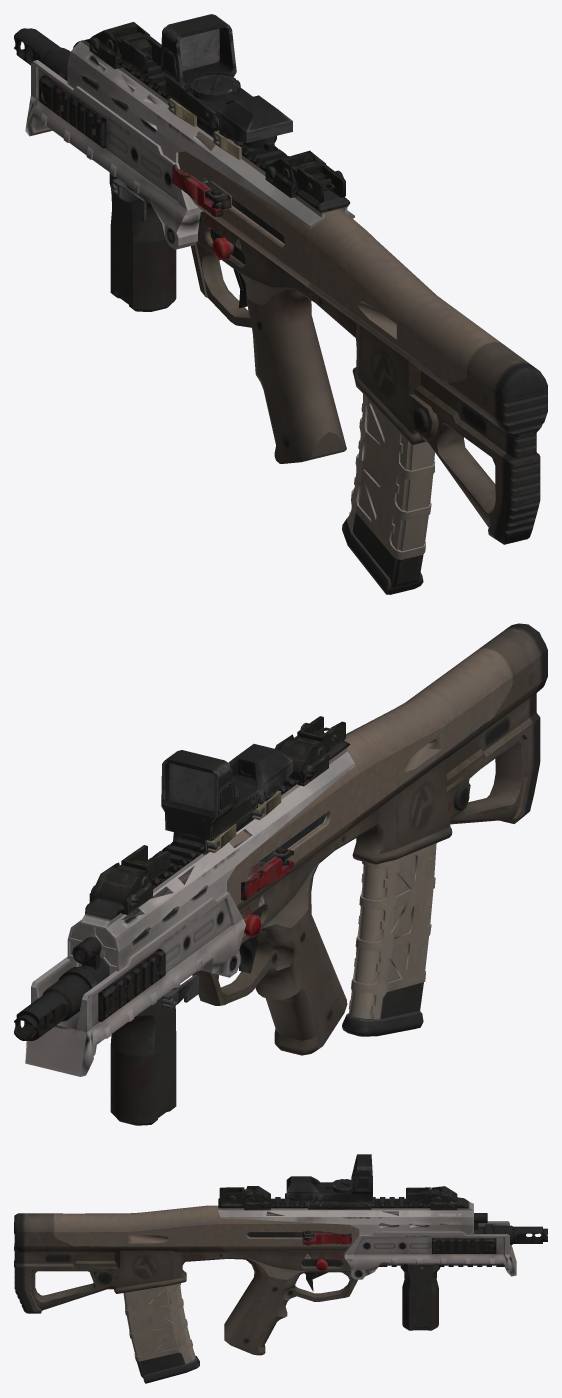
The model's file is sunda.glb.
3 renders of one model, top to bottom at view 1: azimuth 30°, elevation 25°; view 2: azimuth 150°, elevation 25°; view 3: azimuth 270°, elevation 25°, orthographic. The views are drawn at different scales.
Parts seen in each view (by area): view 1: desirefx.me_034_Gun_0, desirefx.me_032_Gun_0, desirefx.me_031_Gun_0, desirefx.me_030_Gun_0, desirefx.me_041_ReflexSights_0, desirefx.me_025_ForegripAttach_0, desirefx.me_021_Gun_0, desirefx.me_022_Gun_0, desirefx.me_016_RearSights_0, desirefx.me_028_FrontSights_0, desirefx.me_040_ReflexSights_0, desirefx.me_003_ReflexSights_0 (+4 smaller); view 2: desirefx.me_034_Gun_0, desirefx.me_032_Gun_0, desirefx.me_031_Gun_0, desirefx.me_030_Gun_0, desirefx.me_025_ForegripAttach_0, desirefx.me_041_ReflexSights_0, desirefx.me_022_Gun_0, desirefx.me_021_Gun_0, desirefx.me_029_FrontSights_0, desirefx.me_040_ReflexSights_0, desirefx.me_015_RearSights_0, desirefx.me_028_FrontSights_0 (+4 smaller); view 3: desirefx.me_034_Gun_0, desirefx.me_031_Gun_0, desirefx.me_032_Gun_0, desirefx.me_030_Gun_0, desirefx.me_025_ForegripAttach_0, desirefx.me_041_ReflexSights_0, desirefx.me_021_Gun_0, desirefx.me_022_Gun_0, desirefx.me_029_FrontSights_0, desirefx.me_015_RearSights_0, desirefx.me_028_FrontSights_0, desirefx.me_043_ReflexSights_0 (+4 smaller).
Part boxes in pixels (bbox=[...]): desirefx.me_034_Gun_0: bbox=[178, 133, 547, 544]; desirefx.me_032_Gun_0: bbox=[342, 394, 435, 594]; desirefx.me_031_Gun_0: bbox=[67, 39, 354, 228]; desirefx.me_030_Gun_0: bbox=[25, 60, 203, 249]; desirefx.me_041_ReflexSights_0: bbox=[160, 14, 292, 142]; desirefx.me_025_ForegripAttach_0: bbox=[109, 173, 176, 311]; desirefx.me_021_Gun_0: bbox=[39, 75, 106, 148]; desirefx.me_022_Gun_0: bbox=[14, 28, 128, 109]; desirefx.me_016_RearSights_0: bbox=[283, 161, 345, 202]; desirefx.me_028_FrontSights_0: bbox=[107, 32, 161, 73]; desirefx.me_040_ReflexSights_0: bbox=[179, 29, 219, 71]; desirefx.me_003_ReflexSights_0: bbox=[190, 74, 240, 101]; desirefx.me_034_Gun_0: bbox=[192, 623, 547, 1055]; desirefx.me_032_Gun_0: bbox=[342, 843, 436, 1036]; desirefx.me_031_Gun_0: bbox=[67, 740, 354, 974]; desirefx.me_030_Gun_0: bbox=[25, 892, 245, 1076]; desirefx.me_025_ForegripAttach_0: bbox=[110, 988, 176, 1125]; desirefx.me_041_ReflexSights_0: bbox=[161, 744, 292, 841]; desirefx.me_022_Gun_0: bbox=[14, 908, 175, 1041]; desirefx.me_021_Gun_0: bbox=[98, 949, 165, 1021]; desirefx.me_029_FrontSights_0: bbox=[89, 862, 152, 914]; desirefx.me_040_ReflexSights_0: bbox=[169, 763, 214, 811]; desirefx.me_015_RearSights_0: bbox=[275, 734, 328, 786]; desirefx.me_028_FrontSights_0: bbox=[116, 845, 169, 887]; desirefx.me_034_Gun_0: bbox=[14, 1205, 359, 1355]; desirefx.me_031_Gun_0: bbox=[218, 1197, 473, 1234]; desirefx.me_032_Gun_0: bbox=[123, 1283, 199, 1383]; desirefx.me_030_Gun_0: bbox=[344, 1221, 516, 1279]; desirefx.me_025_ForegripAttach_0: bbox=[400, 1263, 440, 1330]; desirefx.me_041_ReflexSights_0: bbox=[286, 1154, 372, 1202]; desirefx.me_021_Gun_0: bbox=[432, 1238, 496, 1253]; desirefx.me_022_Gun_0: bbox=[474, 1224, 547, 1244]; desirefx.me_029_FrontSights_0: bbox=[430, 1186, 457, 1210]; desirefx.me_015_RearSights_0: bbox=[244, 1186, 270, 1210]; desirefx.me_028_FrontSights_0: bbox=[406, 1187, 440, 1203]; desirefx.me_043_ReflexSights_0: bbox=[308, 1200, 371, 1209].
Bounding box in the file's own units: 0.0653 × 0.3283 × 0.72.
Materials: 6 (6 with a texture image).
